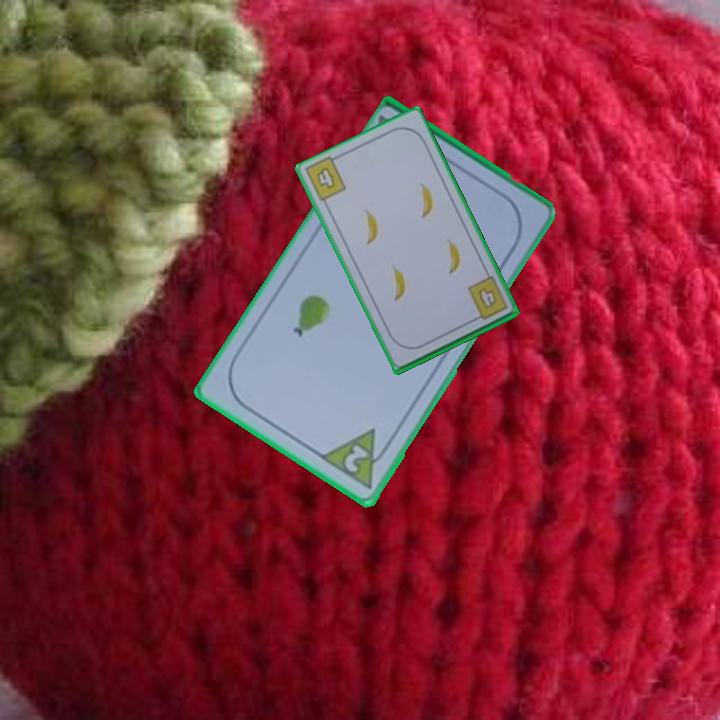2p: (340, 441, 372, 477)
4b: (464, 273, 510, 324), (313, 163, 338, 192)
